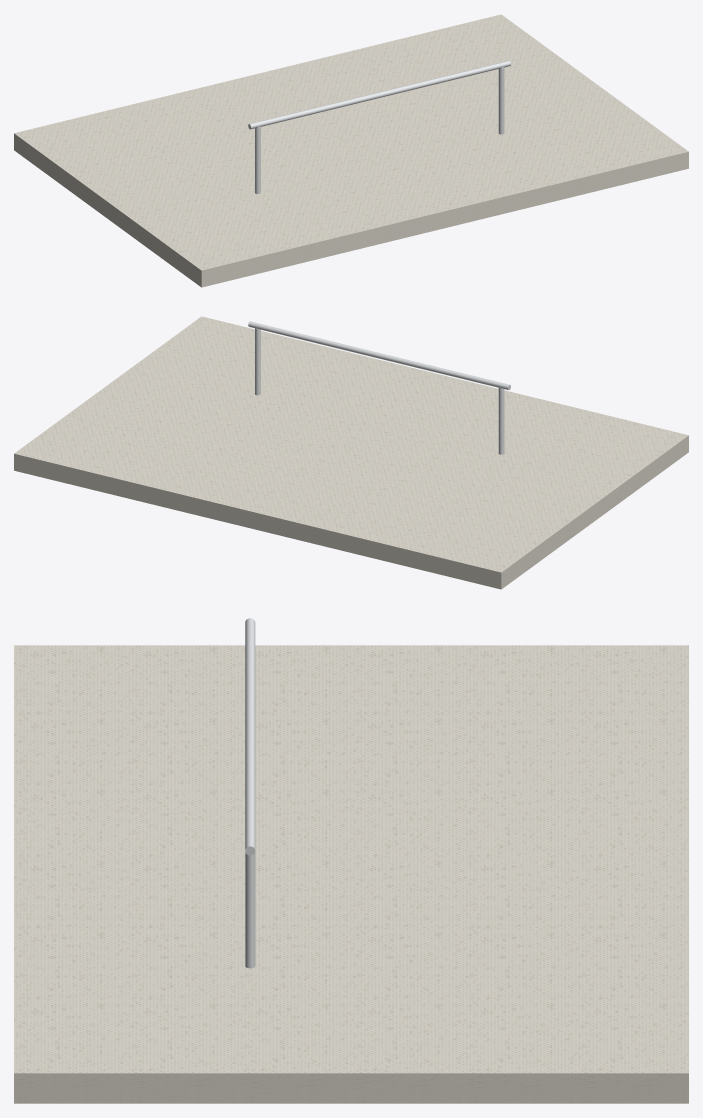
The model's file is knot-clove.glb.
3 views of the same model, one above another, from view 1: azimuth 30°, elevation 25°; view 2: azimuth 150°, elevation 25°; view 3: azimuth 270°, elevation 25° (orthographic). The views are drawn at different scales.
Size of the model in its own units: 3 by 0.515 by 2.
2 materials, 1 textured.
